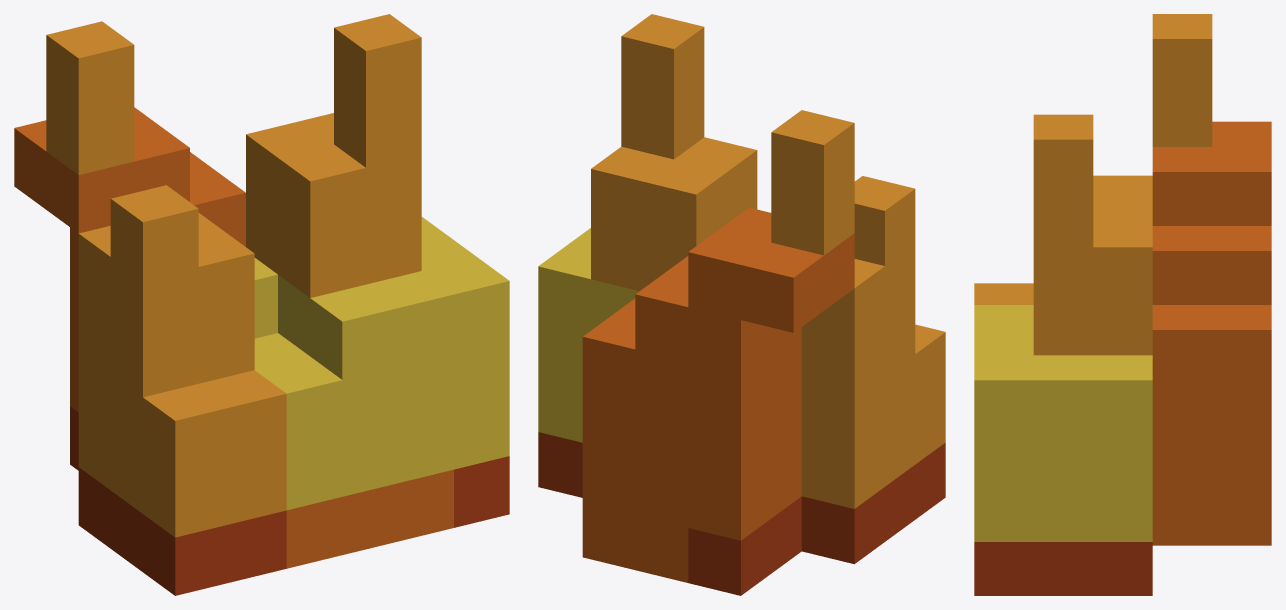
The model's file is flame_07.glb.
The picture shows the model from 3 angles, left to right: view 1: azimuth 30°, elevation 25°; view 2: azimuth 150°, elevation 25°; view 3: azimuth 270°, elevation 25°; orthographic projection. The views are drawn at different scales.
Visible parts, largest first — view 1: flame_07; view 2: flame_07; view 3: flame_07.
Part boxes in pixels (left/top/right/bottom): flame_07: left=14, top=14, right=509, bottom=595; flame_07: left=538, top=14, right=945, bottom=595; flame_07: left=974, top=14, right=1271, bottom=595.
Size of the model in its own units: 0.75 by 1 by 0.625.
